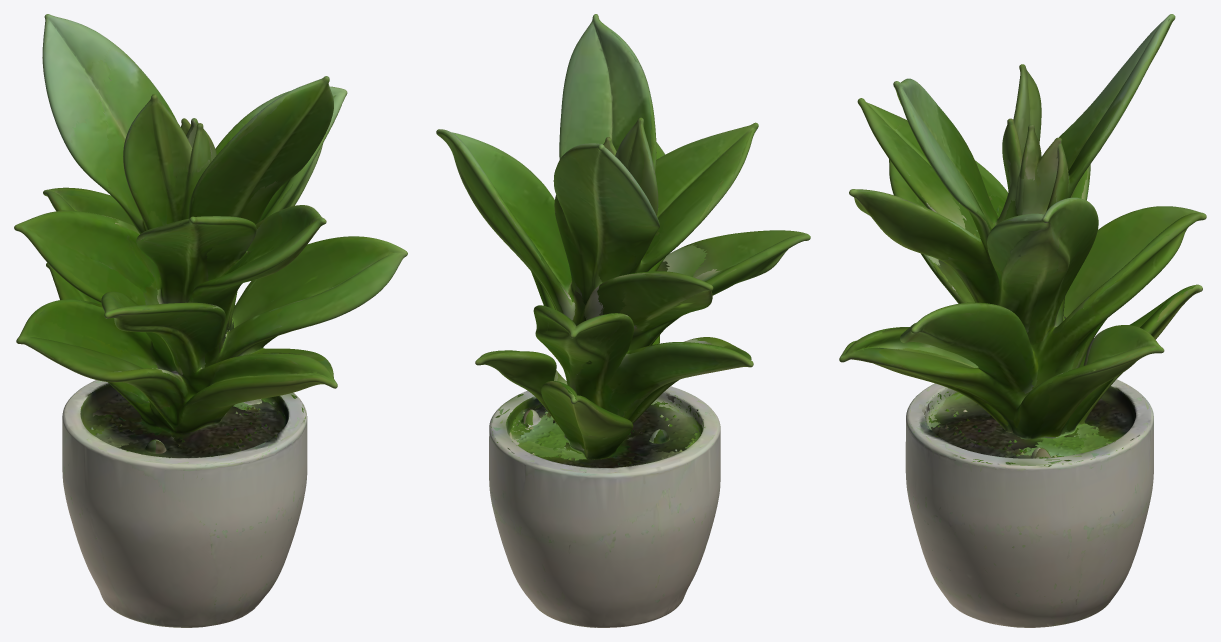
Rendered from potted-plant.glb.
3 renders of one model, left to right at view 1: azimuth 30°, elevation 25°; view 2: azimuth 150°, elevation 25°; view 3: azimuth 270°, elevation 25°, orthographic. The views are drawn at different scales.
Visible parts, largest first — view 1: texture_pbr_v128; view 2: texture_pbr_v128; view 3: texture_pbr_v128.
Boxes of the visible parts, x1,y1,x2,y2 form: texture_pbr_v128: [14, 14, 407, 627]; texture_pbr_v128: [436, 14, 810, 627]; texture_pbr_v128: [839, 14, 1206, 627].
Size of the model in its own units: 0.667 by 1.05 by 0.6335.
Materials: 1 (1 with a texture image).
